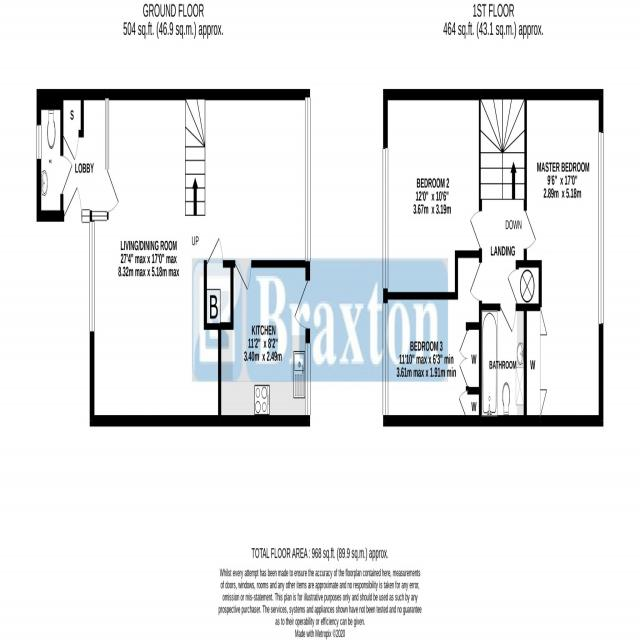DOOR: (294, 280, 310, 330), (64, 184, 82, 223), (105, 169, 119, 213), (469, 260, 483, 303), (499, 302, 517, 335), (523, 208, 537, 250), (235, 259, 252, 292), (469, 209, 482, 251), (206, 237, 223, 269), (60, 154, 73, 195), (507, 268, 519, 312)
ROOM: (89, 88, 311, 427), (523, 88, 605, 427), (382, 88, 482, 300), (382, 248, 482, 427), (218, 260, 310, 427)
WINDOW: (304, 95, 311, 264), (598, 130, 604, 326), (382, 147, 389, 290), (382, 302, 389, 418), (89, 221, 96, 333), (304, 342, 311, 416), (105, 97, 109, 170), (36, 124, 42, 161), (92, 209, 108, 222), (82, 208, 90, 223)
